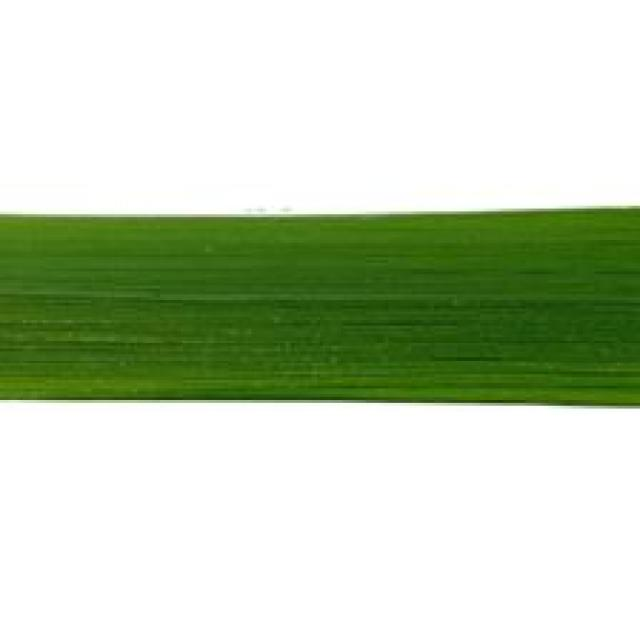Rice___Healthy_Rice_Plant: (0, 208, 637, 408)
